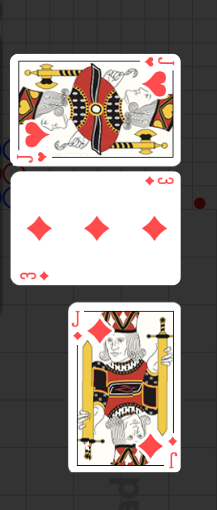3D: (142, 175, 175, 187)
JD: (167, 434, 180, 470)
JH: (143, 55, 175, 68)
